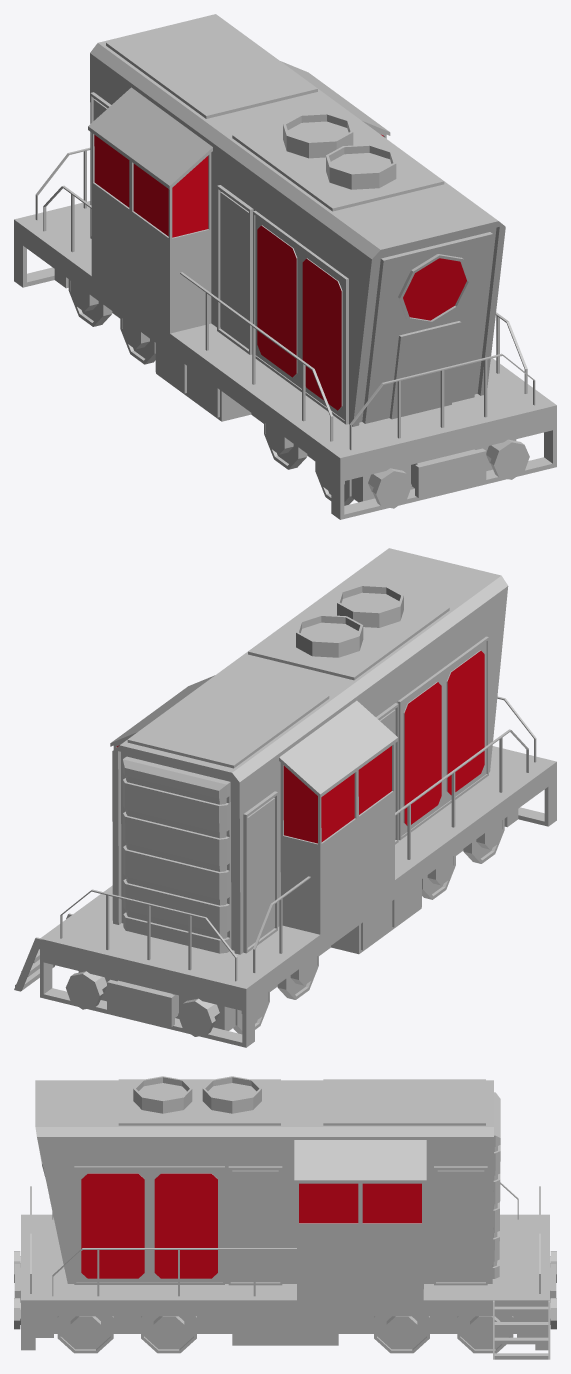
Rendered from SM_freight_train_01.gltf.
3 renders of one model, top to bottom at view 1: azimuth 30°, elevation 25°; view 2: azimuth 150°, elevation 25°; view 3: azimuth 270°, elevation 25°, orthographic. The views are drawn at different scales.
Visible parts, largest first — view 1: freight_train_01; view 2: freight_train_01; view 3: freight_train_01.
Boxes of the visible parts, x1,y1,x2,y2 form: freight_train_01: [14, 14, 556, 519]; freight_train_01: [14, 548, 556, 1047]; freight_train_01: [14, 1076, 556, 1359].
Bounding box in the file's own units: 1.74 × 1.96 × 4.11.
